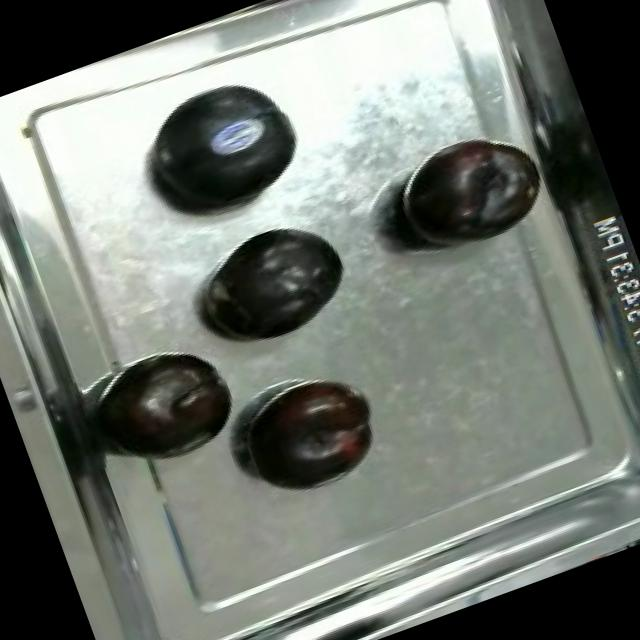Fruit: (124, 54, 324, 236), (185, 204, 368, 362), (375, 116, 555, 269), (230, 362, 394, 508), (96, 337, 250, 474)
